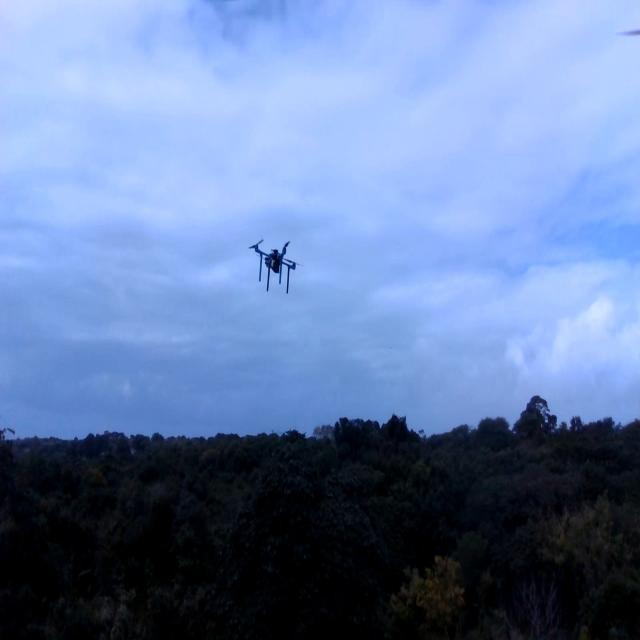-uav-: (245, 224, 302, 299)
